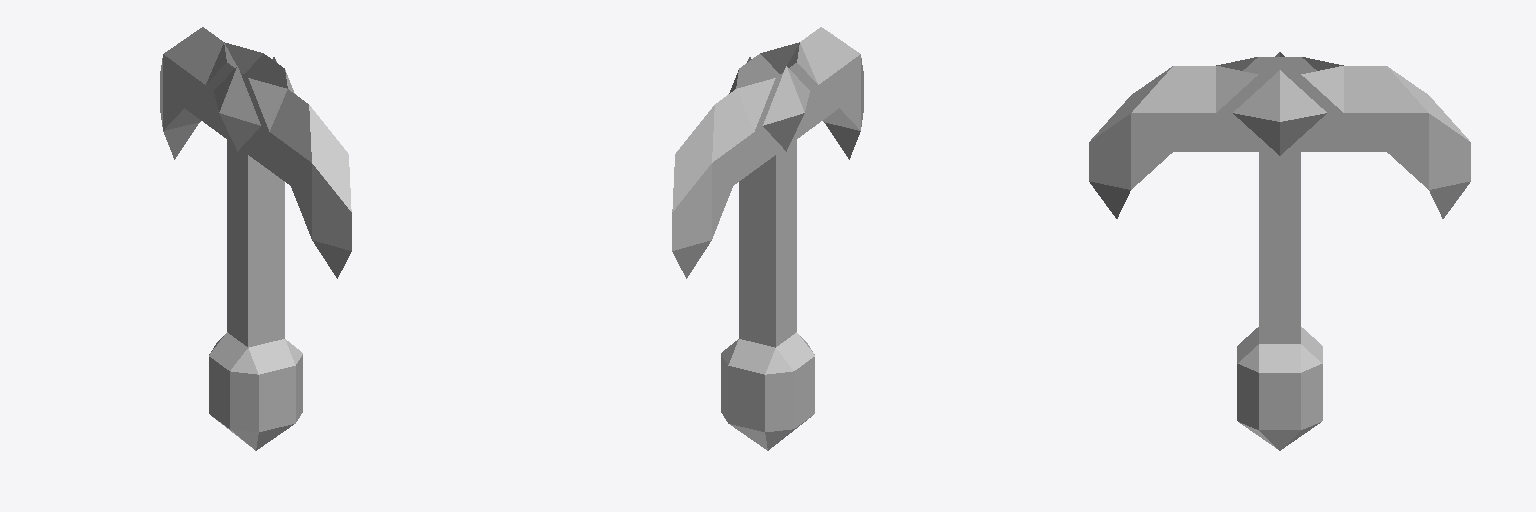
File: warden_blade_handle.obj
The picture shows the model from 3 angles: view 1: azimuth 30°, elevation 25°; view 2: azimuth 150°, elevation 25°; view 3: azimuth 270°, elevation 25°; orthographic projection.
Visible parts, largest first — view 1: Handle_Cube.004; view 2: Handle_Cube.004; view 3: Handle_Cube.004.
Boxes of the visible parts, <box> form: Handle_Cube.004: <box>160,27,351,450</box>; Handle_Cube.004: <box>672,27,863,450</box>; Handle_Cube.004: <box>1089,52,1470,450</box>.
Bounding box in the file's own units: 0.125 × 0.6324 × 0.5625.